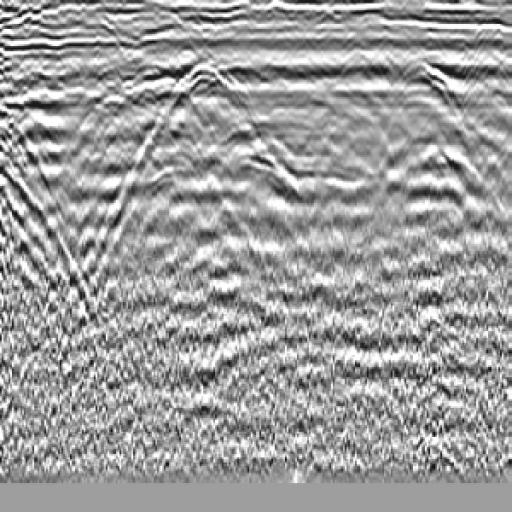metalic: (155, 48, 252, 145)
